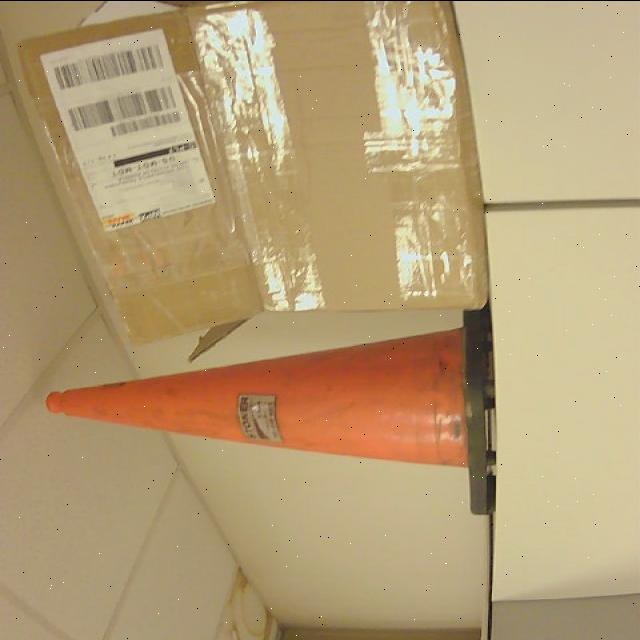traffic cone: (48, 308, 497, 517)
